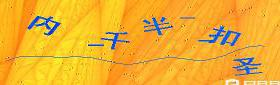chinese: (139, 15, 174, 42), (29, 12, 62, 39), (102, 25, 133, 53), (210, 24, 242, 49), (231, 57, 265, 78)
